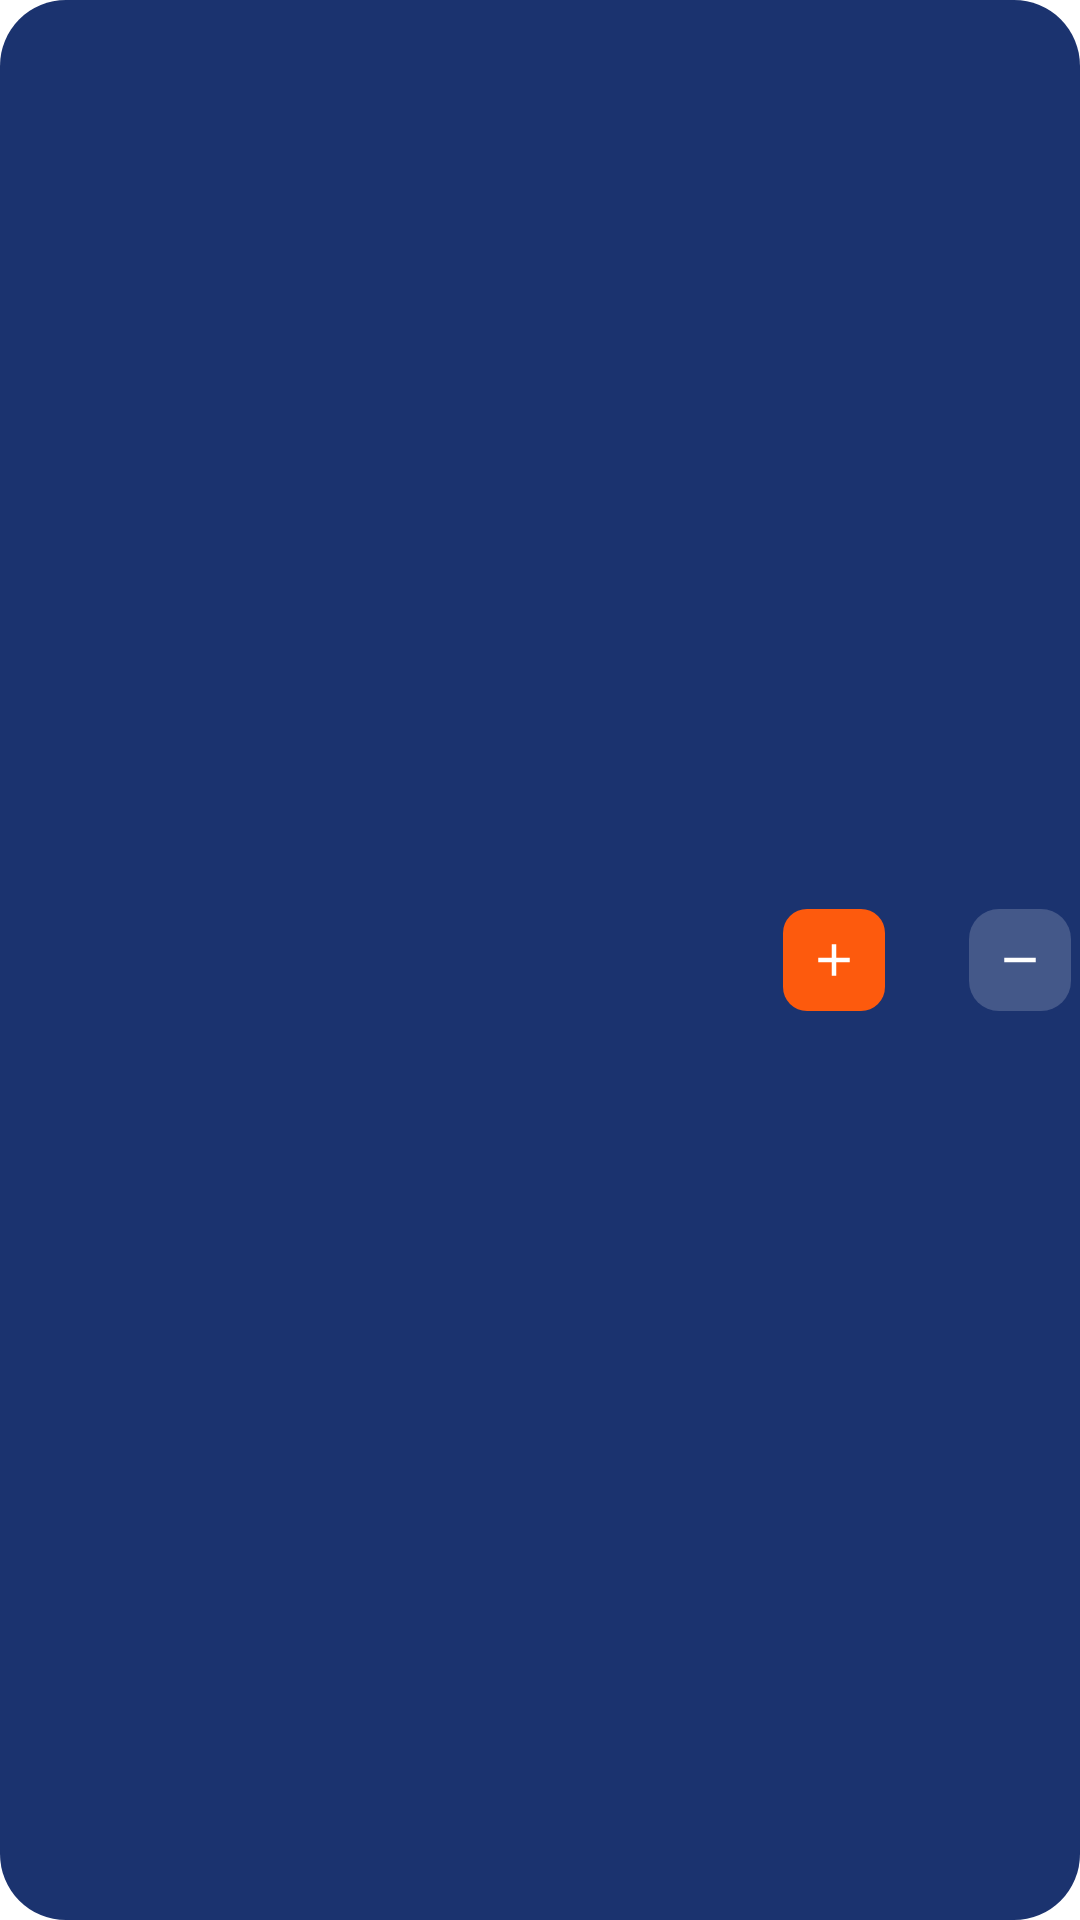

Icons on this 1080 × 1920 Android screen, each with the point to tap as (x=x, y=y):
إنقاص عدد هذا الصنف: (x=1020, y=960)
زيادة عدد هذا الصنف: (x=834, y=960)
